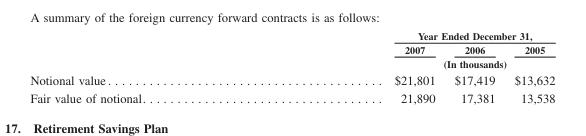table: (29, 29, 554, 104)
table column: (29, 29, 269, 104), (269, 29, 444, 104), (444, 29, 504, 104), (504, 29, 554, 104)
table column header: (29, 29, 554, 70)
table row: (29, 70, 554, 88), (29, 88, 554, 104), (29, 55, 554, 70), (29, 29, 554, 42), (29, 42, 554, 55)
table spanning cell: (269, 55, 554, 70), (269, 29, 554, 42)
